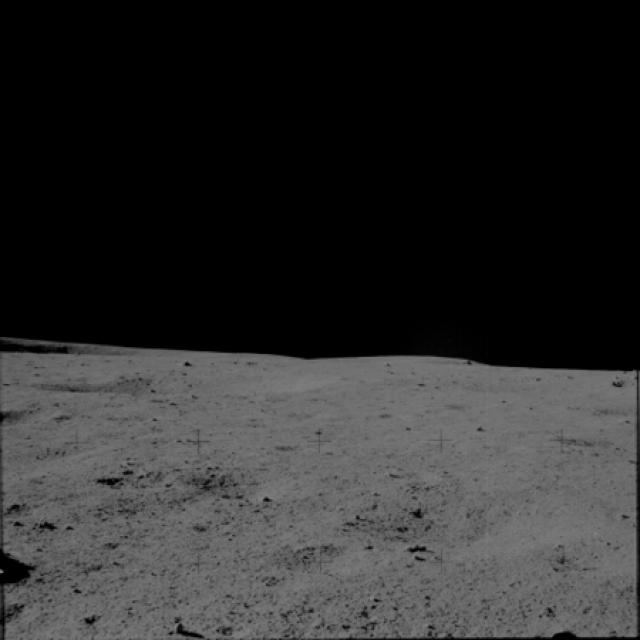crater: (322, 481, 612, 572), (185, 461, 309, 508), (188, 372, 346, 405), (27, 368, 184, 398), (90, 468, 182, 501), (432, 392, 523, 418), (547, 428, 629, 455), (0, 400, 46, 438), (579, 402, 638, 422)
